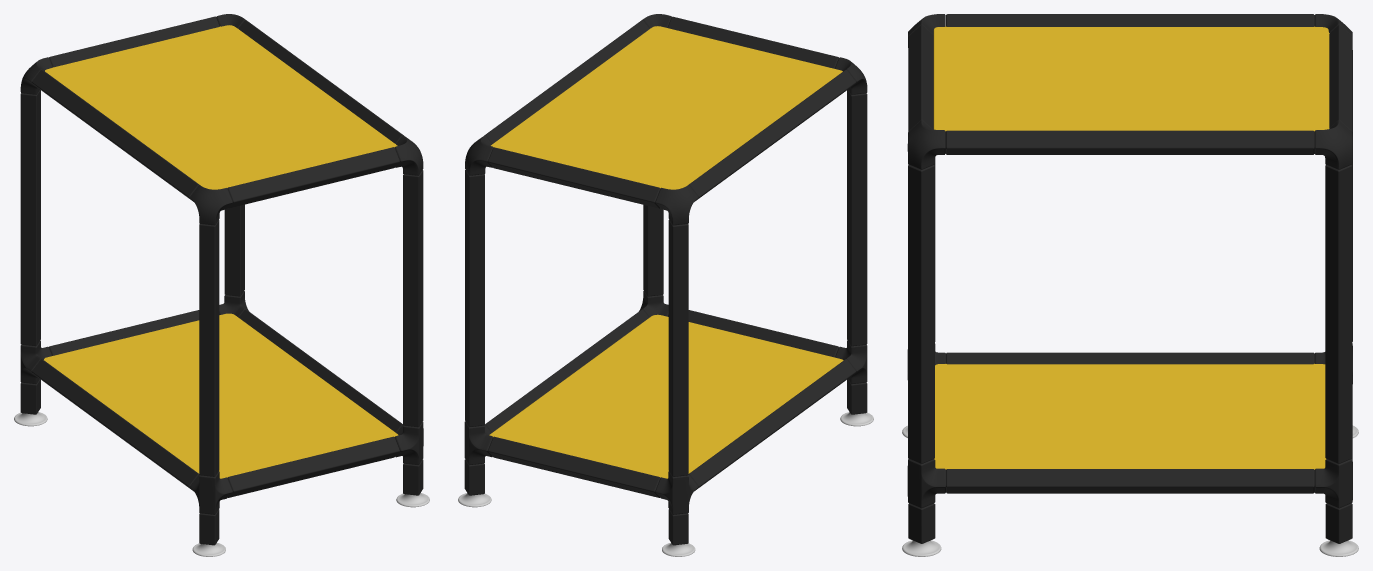
3 views of the same model, side by side, from view 1: azimuth 30°, elevation 25°; view 2: azimuth 150°, elevation 25°; view 3: azimuth 270°, elevation 25° (orthographic). The views are drawn at different scales.
Visible parts, largest first — view 1: 229x374x329; view 2: 229x374x329; view 3: 229x374x329.
Boxes of the visible parts, x1,y1,x2,y2 form: 229x374x329: [14, 14, 429, 556]; 229x374x329: [458, 14, 873, 556]; 229x374x329: [902, 14, 1358, 556].
Bounding box in the file's own units: 0.3189 × 0.4683 × 0.4632.
